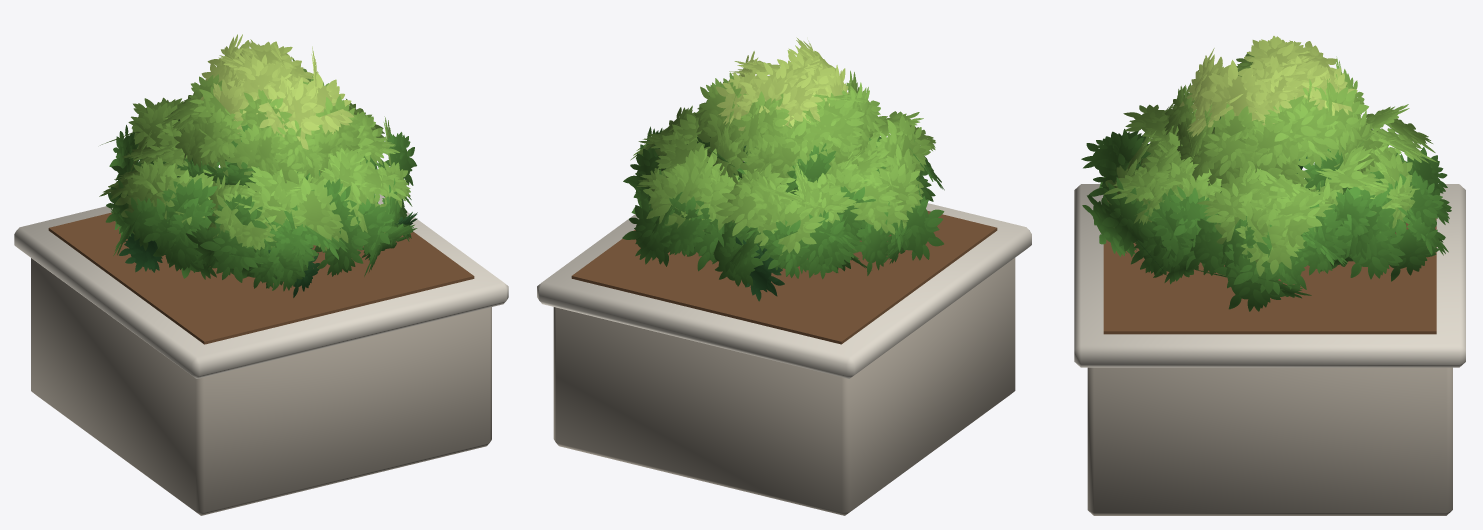
The model's file is planter_square.glb.
3 views of the same model, side by side, from view 1: azimuth 30°, elevation 25°; view 2: azimuth 150°, elevation 25°; view 3: azimuth 270°, elevation 25° (orthographic). The views are drawn at different scales.
Parts seen in each view (by area): view 1: body; view 2: body; view 3: body.
Part boxes in pixels (box(x1,y1,x2,y2)): body: box(14, 34, 508, 515); body: box(537, 37, 1031, 515); body: box(1074, 36, 1465, 515).
Bounding box in the file's own units: 1.25 × 1.42 × 1.25.
2 materials, 1 textured.
